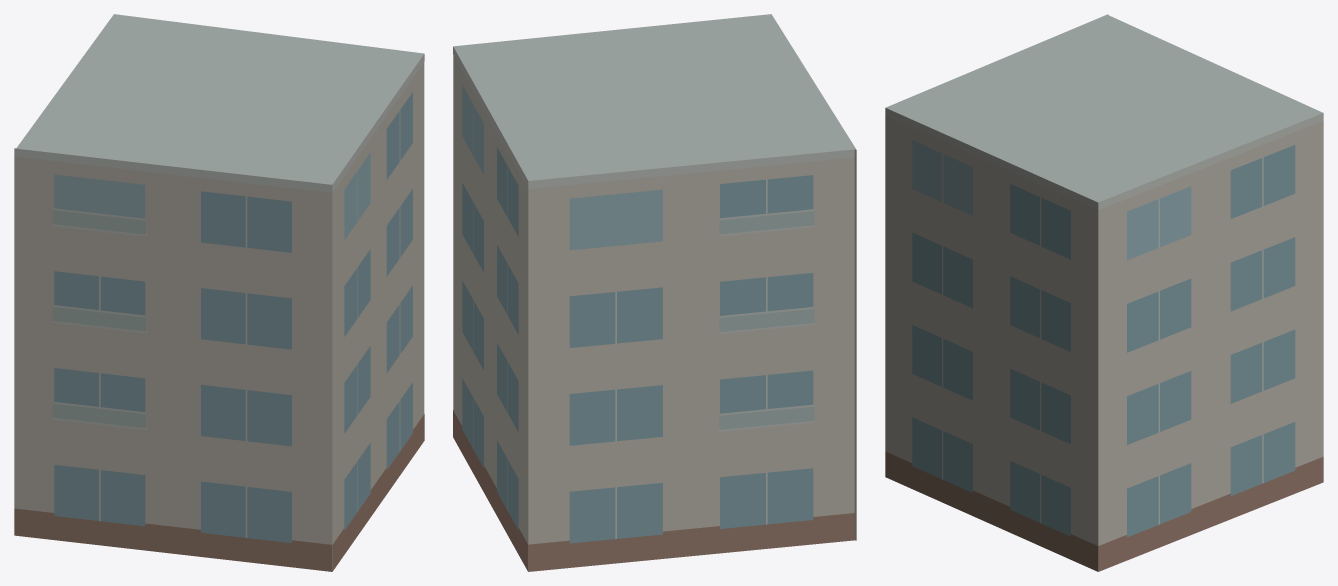
The model's file is survey-upis-32562962.glb.
The picture shows the model from 3 angles, left to right: view 1: azimuth 30°, elevation 25°; view 2: azimuth 150°, elevation 25°; view 3: azimuth 270°, elevation 25°; orthographic projection. The views are drawn at different scales.
Visible parts, largest first — view 1: survey-upis-32562962.tmp; view 2: survey-upis-32562962.tmp; view 3: survey-upis-32562962.tmp.
Boxes of the visible parts, box(x1,y1,x2,y2) form: survey-upis-32562962.tmp: box(14, 14, 424, 571); survey-upis-32562962.tmp: box(453, 14, 856, 571); survey-upis-32562962.tmp: box(885, 14, 1323, 571).
Size of the model in its own units: 12.82 by 11.7 by 12.59.
